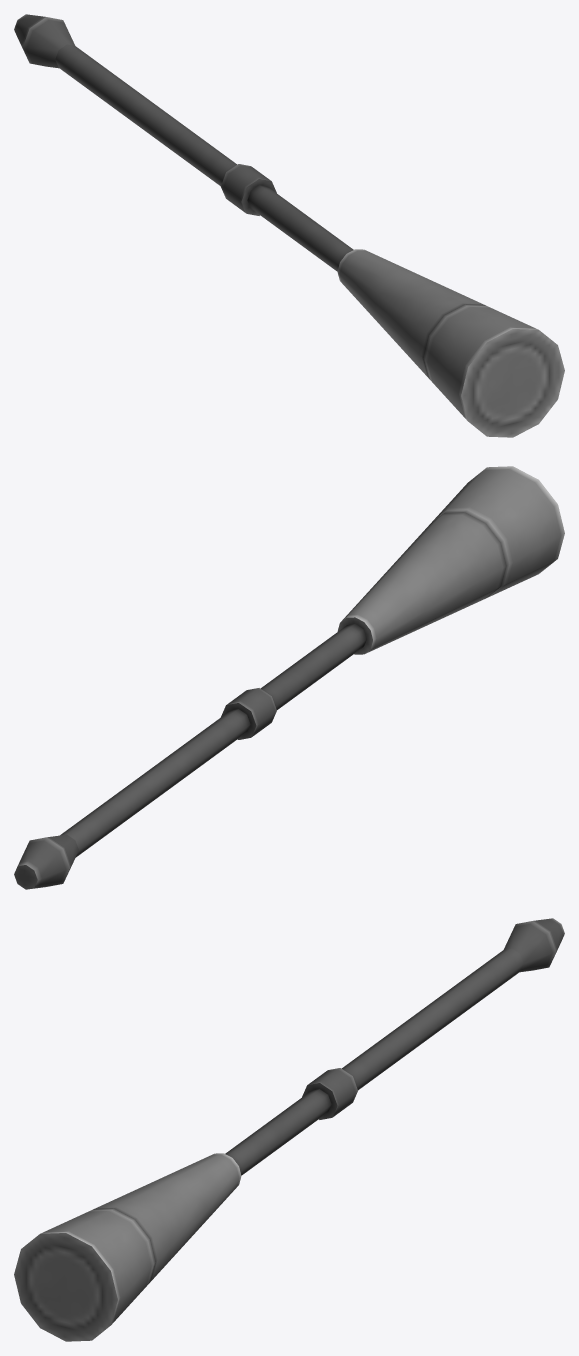
Rendered from magnetometer.obj.
3 views of the same model, one above another, from view 1: azimuth 30°, elevation 25°; view 2: azimuth 150°, elevation 25°; view 3: azimuth 330°, elevation 25° (orthographic).
Parts seen in each view (by area): view 1: magnetometer; view 2: magnetometer; view 3: magnetometer.
Part boxes in pixels (<box>): magnetometer: <box>14,14,564,437</box>; magnetometer: <box>14,466,564,889</box>; magnetometer: <box>14,918,564,1341</box>.
Bounding box in the file's own units: 0.1093 × 0.1093 × 0.8872.
1 material, 1 textured.
